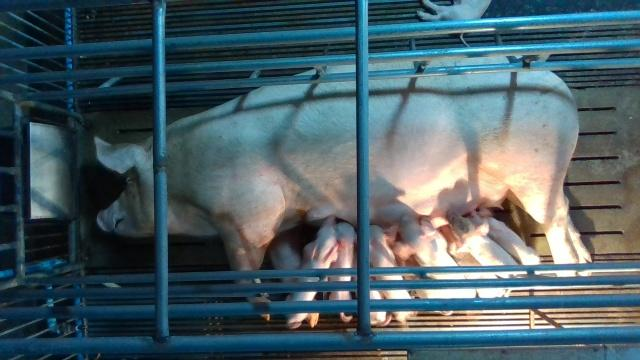piglet: (393, 215, 477, 297), (285, 215, 338, 328), (446, 208, 520, 279), (473, 206, 547, 275), (367, 222, 415, 322), (416, 0, 491, 45), (332, 216, 358, 322)
sow-sleep-lactate: (95, 59, 594, 322)
